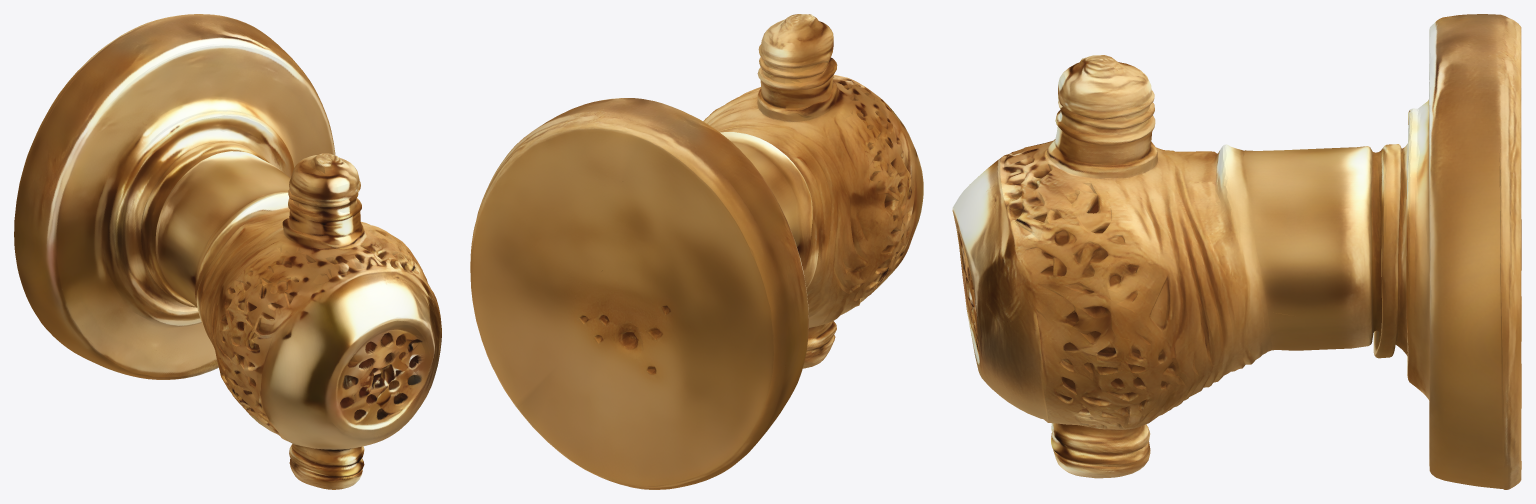
The model's file is showerhead.glb.
The picture shows the model from 3 angles, left to right: view 1: azimuth 30°, elevation 25°; view 2: azimuth 150°, elevation 25°; view 3: azimuth 270°, elevation 25°; orthographic projection. The views are drawn at different scales.
Parts seen in each view (by area): view 1: model; view 2: model; view 3: model.
Part boxes in pixels (left/top/right/bottom): model: left=14, top=14, right=441, bottom=489; model: left=470, top=14, right=923, bottom=489; model: left=952, top=14, right=1521, bottom=489.
Bounding box in the file's own units: 1.46 × 1.61 × 1.89.
Materials: 1 (1 with a texture image).
